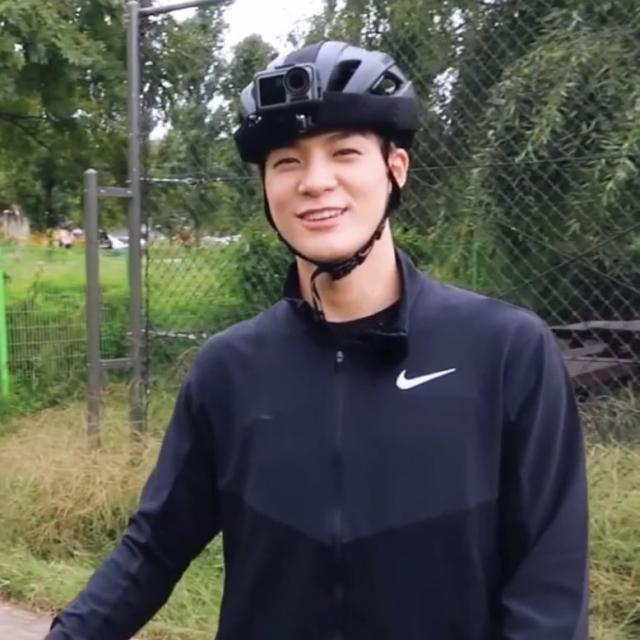helmet: (232, 40, 428, 284)
